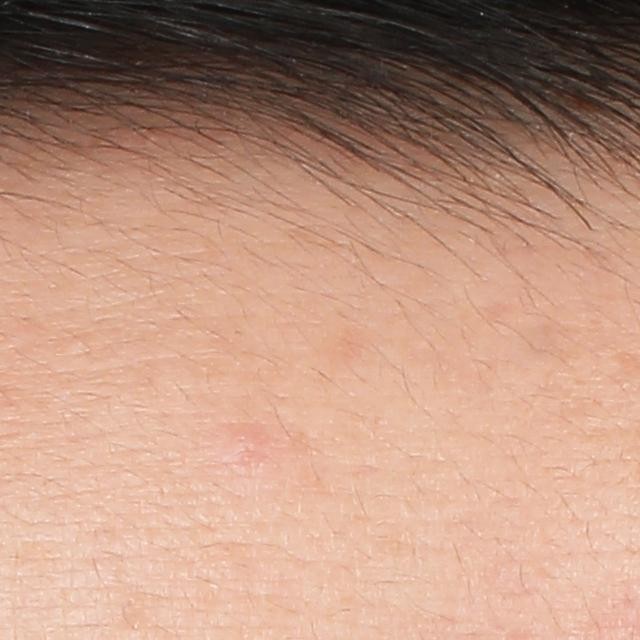papule: (226, 427, 258, 466)
